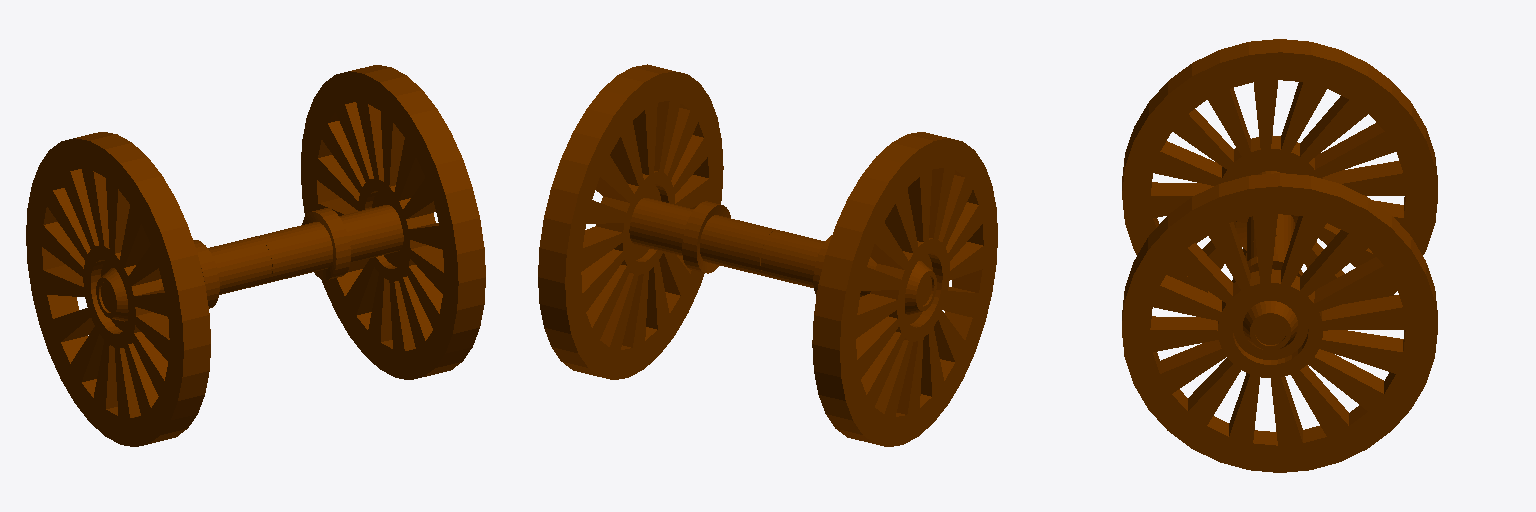
3 views of the same model, side by side, from view 1: azimuth 30°, elevation 25°; view 2: azimuth 150°, elevation 25°; view 3: azimuth 270°, elevation 25° (orthographic).
Visible parts, largest first — view 1: Cannon_Base_Cylinder.001; view 2: Cannon_Base_Cylinder.001; view 3: Cannon_Base_Cylinder.001.
Boxes of the visible parts, x1,y1,x2,y2 form: Cannon_Base_Cylinder.001: [26, 65, 485, 446]; Cannon_Base_Cylinder.001: [538, 64, 997, 446]; Cannon_Base_Cylinder.001: [1122, 39, 1437, 472].
Bounding box in the file's own units: 1.12 × 1 × 1.
Materials: 1 (1 with a texture image).